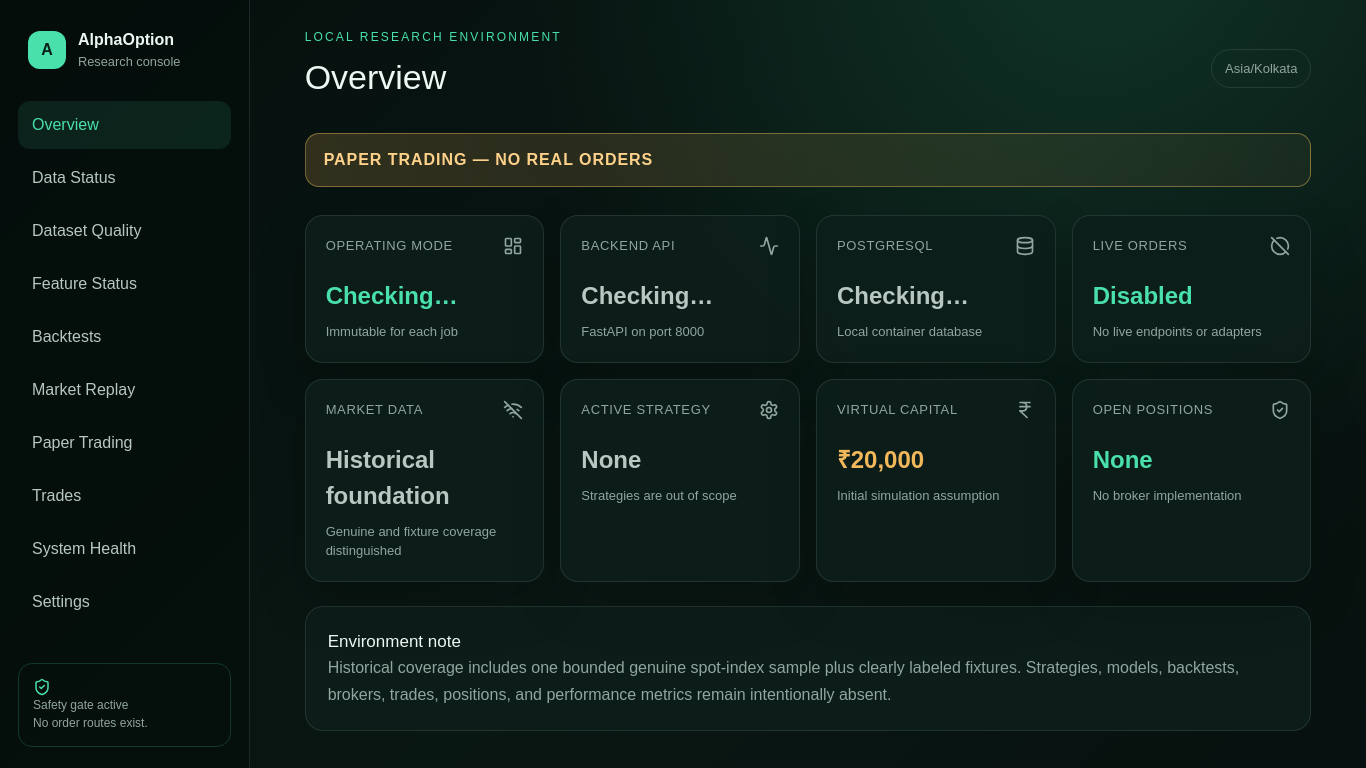
Test: Data Status › shows the historical empty state
The width and height of the screenshot is (1366, 768).
Step 1. Click the button "Data Status" → (124, 178), box [18,154,231,202]
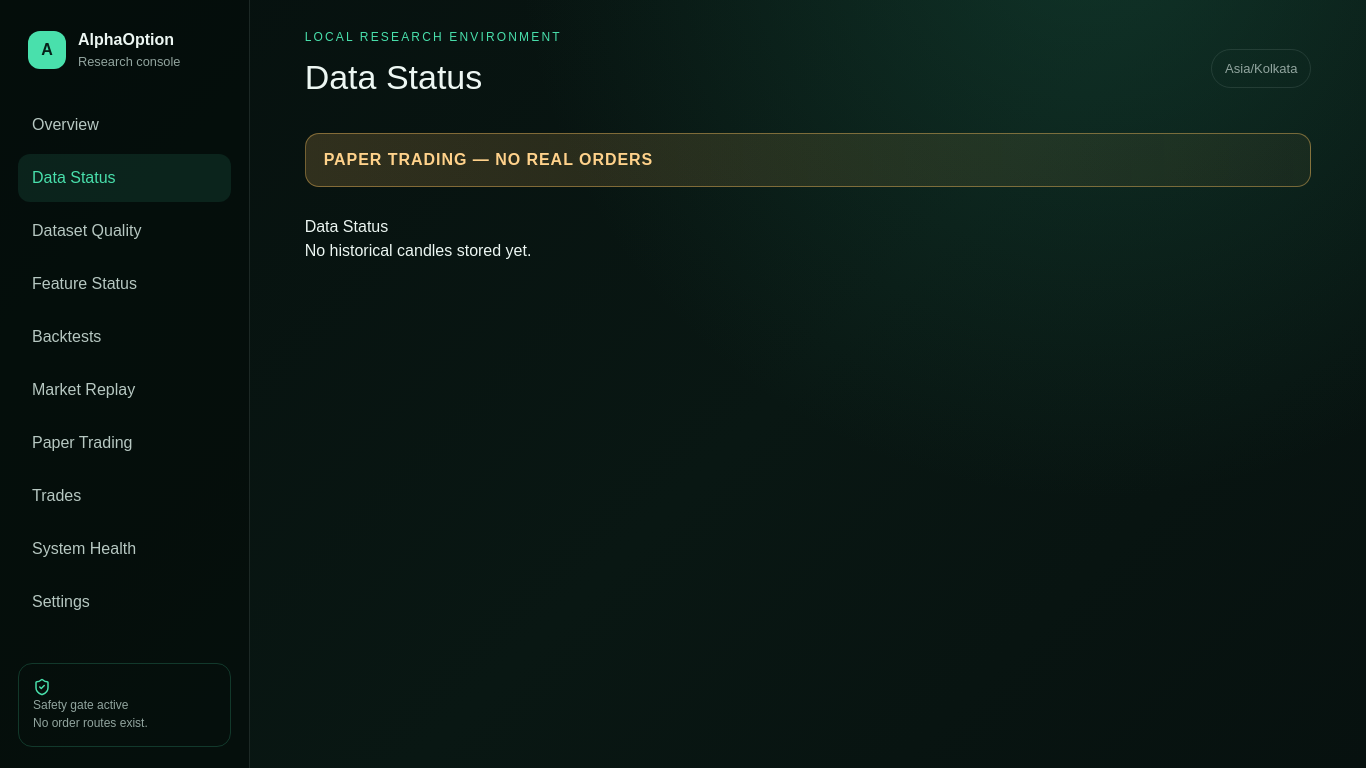
Now the text "No historical candles stored yet." is shown, box [305,242,531,259]
